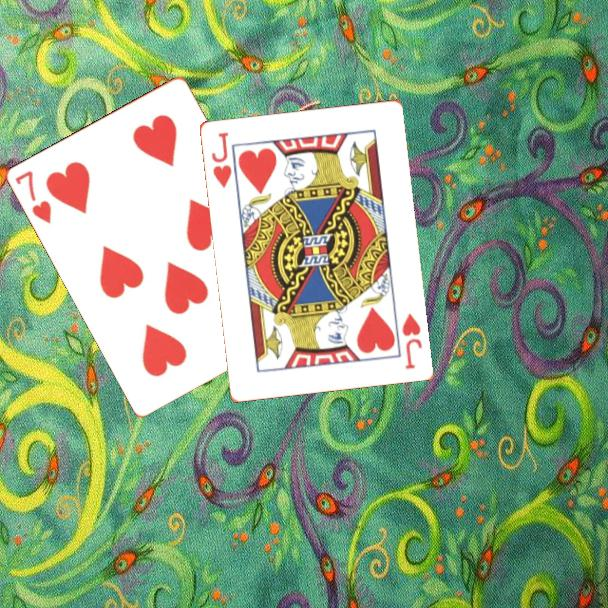h07: (12, 167, 55, 227)
h11: (207, 129, 234, 191), (398, 310, 425, 372)
